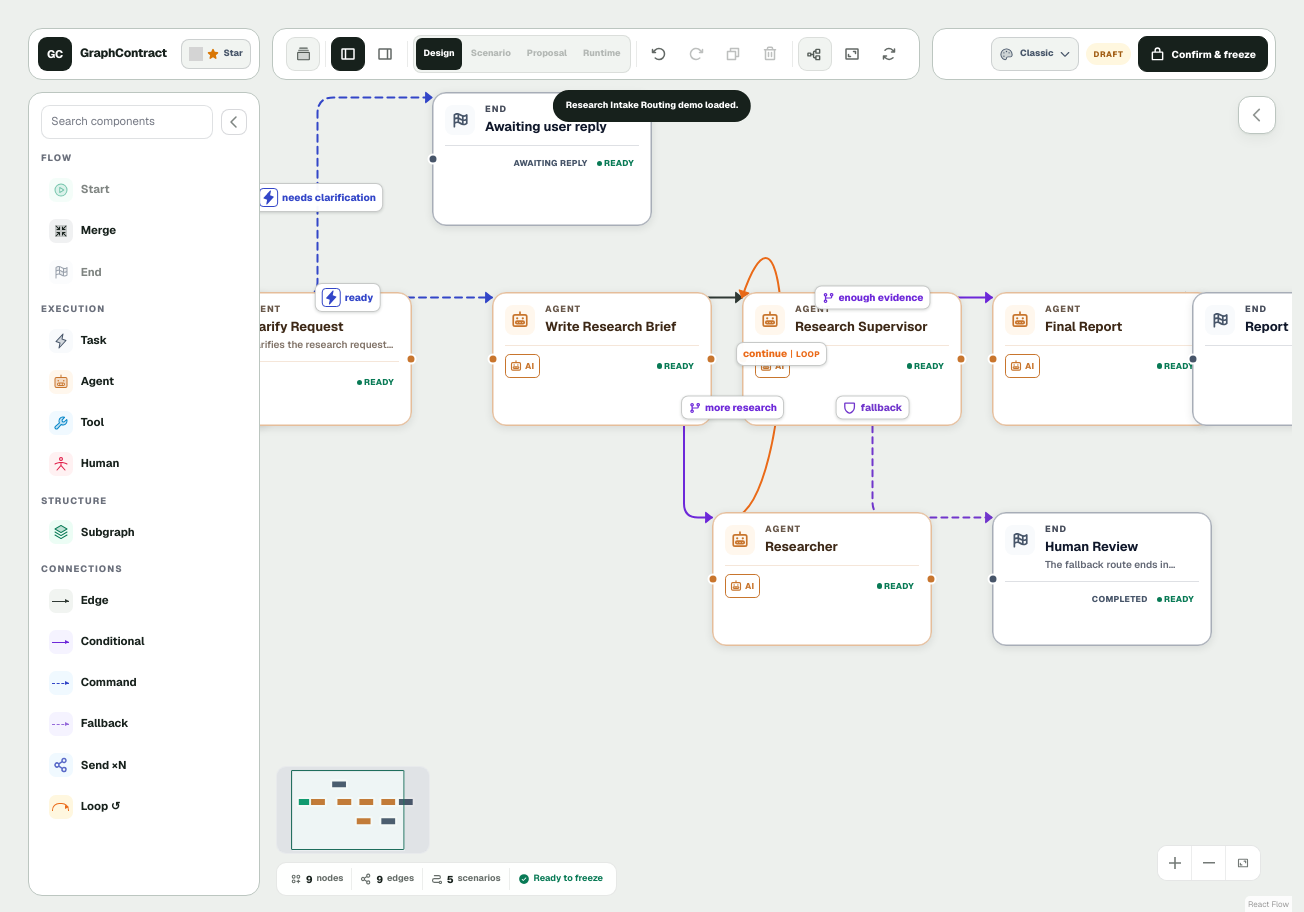
GraphWorkspace subgraph creation › undoes an invalid edit without racing React Flow selection against history state
This screenshot has width=1304, height=912.
Click the button named "Show inspector" at {"x": 386, "y": 54}, box x1=368 y1=37 x2=402 y2=71
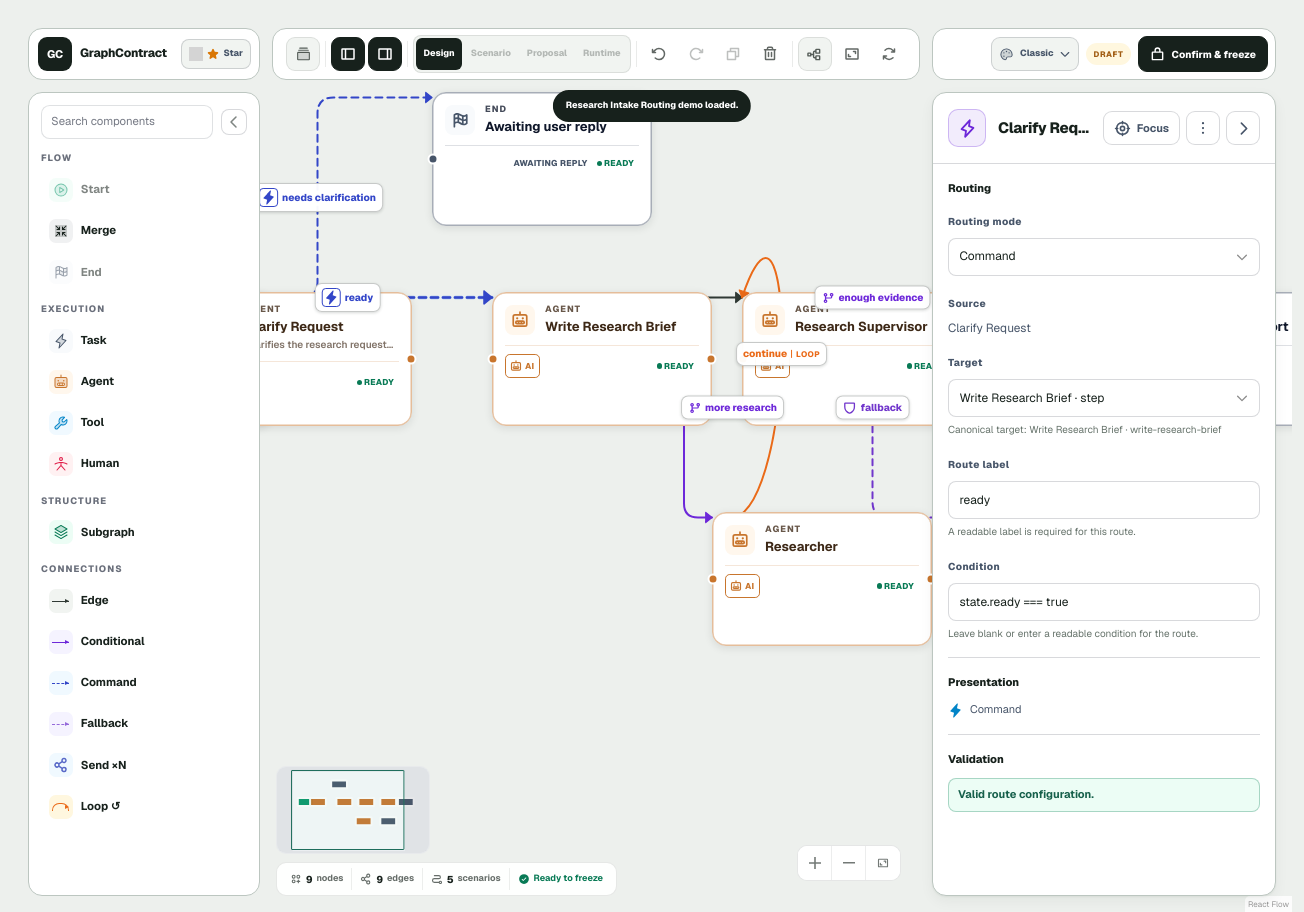
Result: the field labelled "Route label" holds "ready"
Clear the field labelled "Route label" at {"x": 1104, "y": 500}, box x1=948 y1=482 x2=1260 y2=520
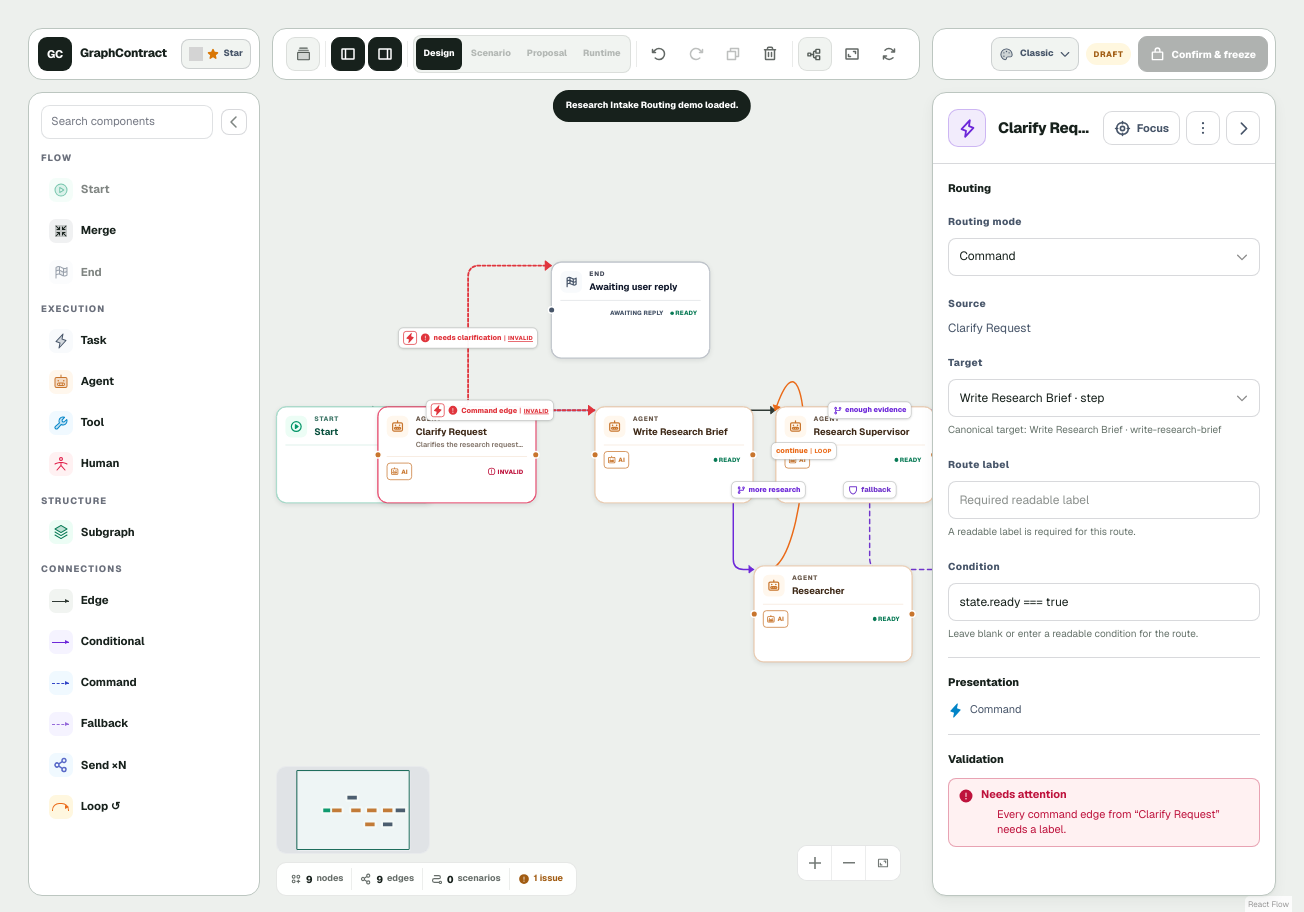
Result: the list item "Every command edge from “Clarify Request” needs a label." is shown at x1=997 y1=807 x2=1250 y2=838
Click the button named "Undo" at {"x": 658, "y": 54}, box x1=642 y1=37 x2=676 y2=71
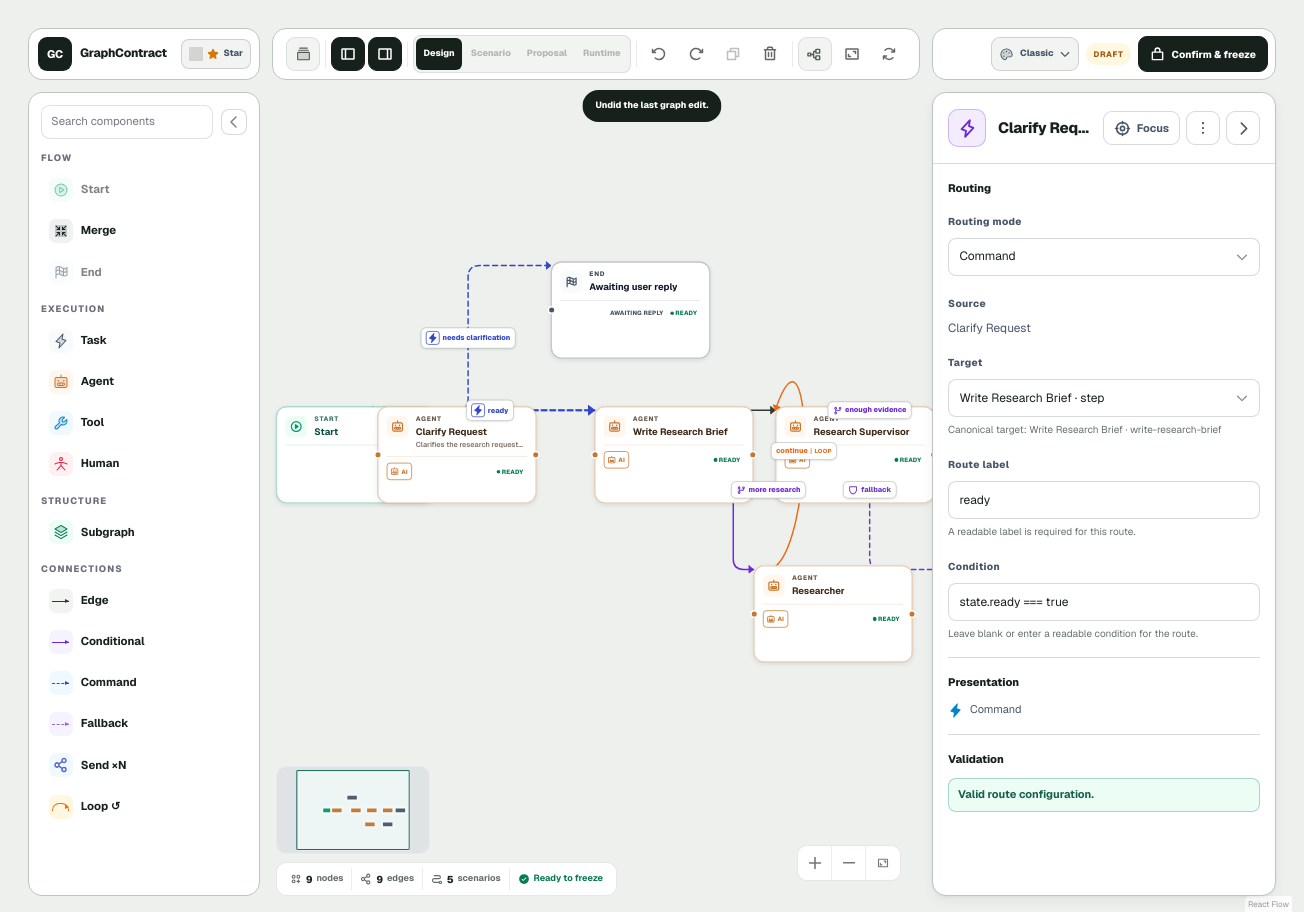
Result: the text "ready" is shown at x1=488 y1=407 x2=508 y2=414
Result: the field labelled "Route label" holds "ready" at x1=948 y1=482 x2=1260 y2=520
